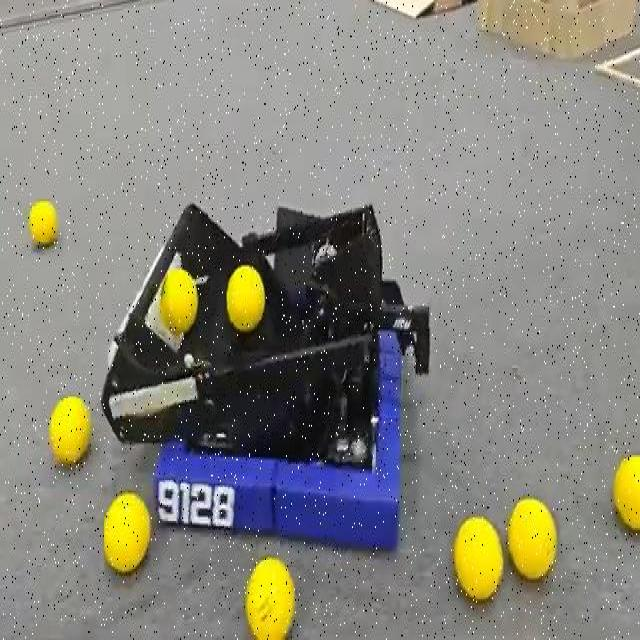Fuel: (453, 515, 504, 602), (453, 515, 503, 601), (245, 558, 295, 640), (507, 498, 556, 580), (245, 556, 294, 638), (103, 492, 150, 572), (49, 397, 90, 462), (226, 265, 265, 331), (159, 268, 198, 334), (612, 454, 640, 530), (612, 455, 639, 530), (28, 201, 57, 245)
